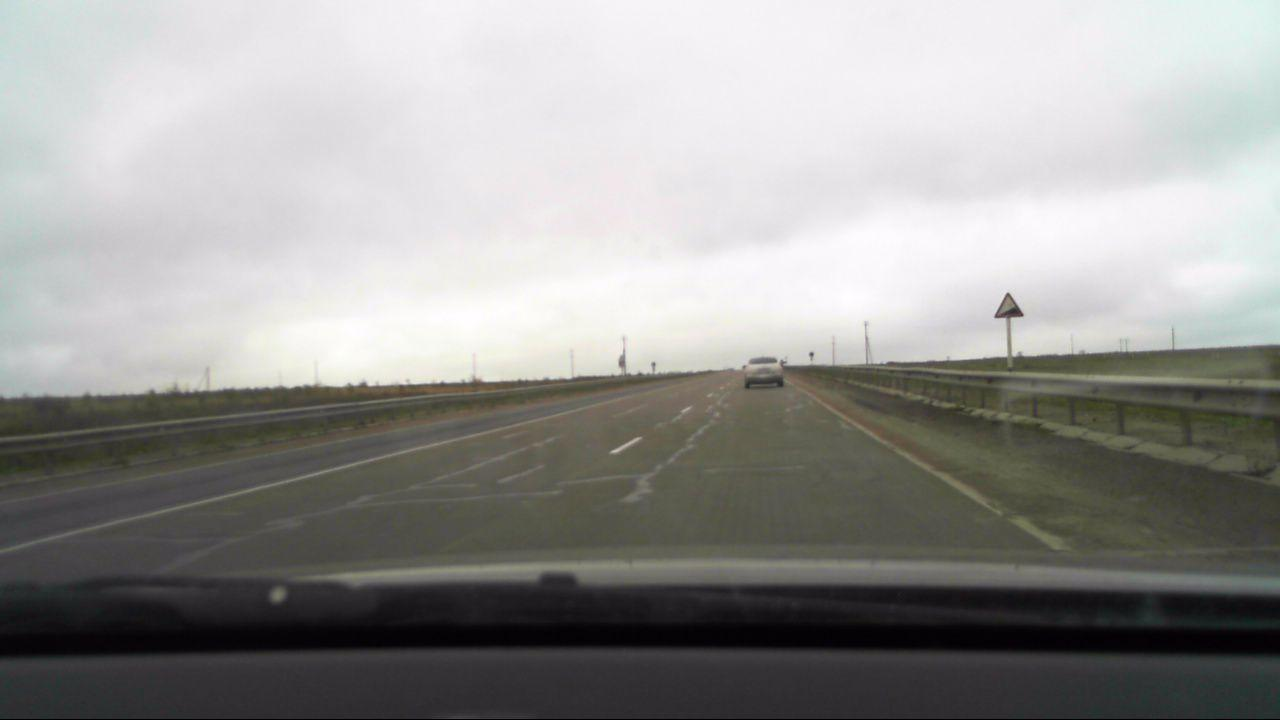1_14: (992, 291, 1024, 318)
